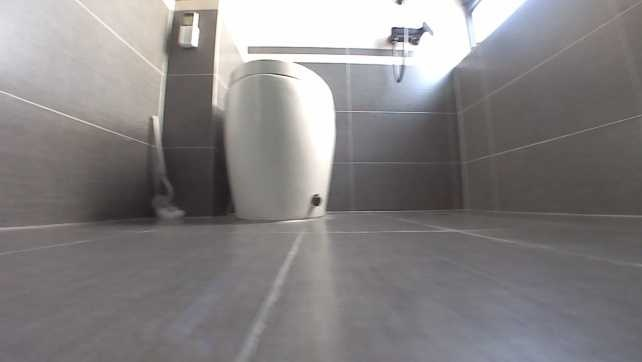toilet: (221, 57, 337, 220)
